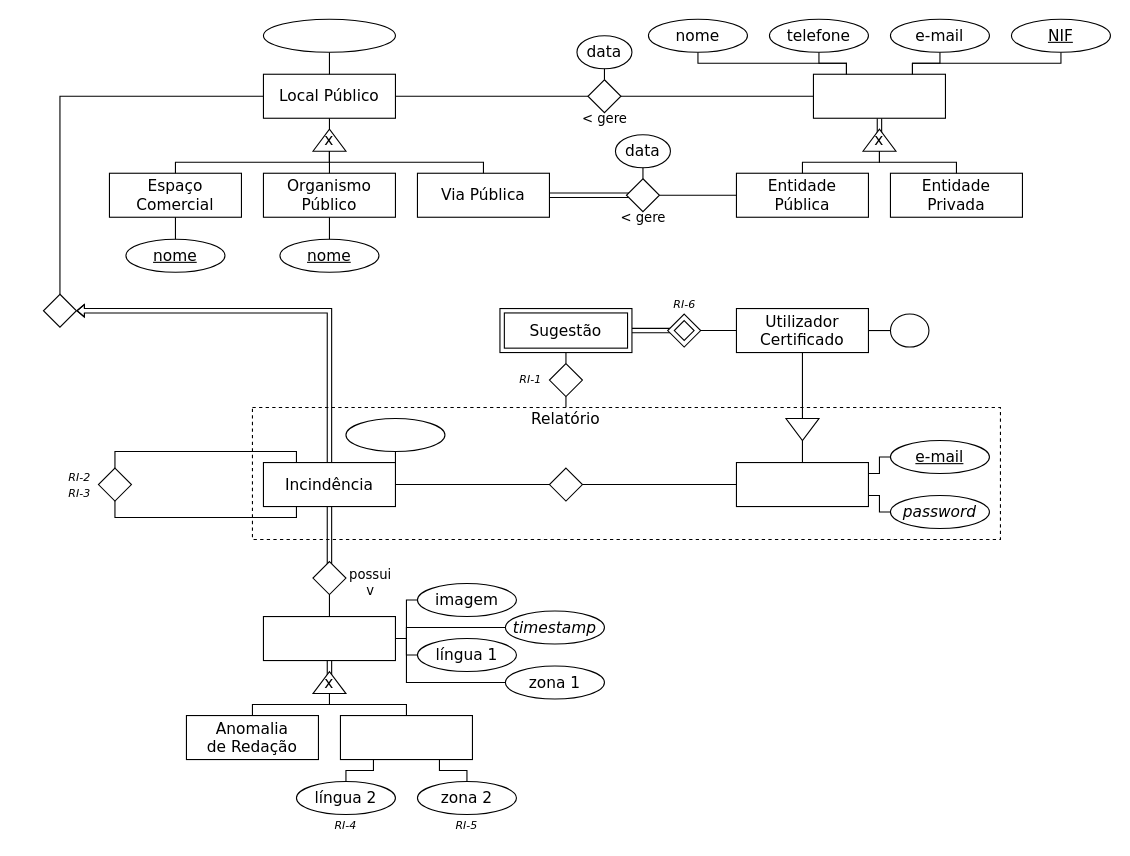
Some shapes in this 1130 by 856 pixel diagram are drawn without their labels. Each missing label, with the centre of its shape:
"< dá" goes at (x=684, y=330).
"< ocorre em" goes at (x=59, y=310).
"< reporta" goes at (x=565, y=484).
"Anomalia" goes at (x=328, y=638).
"Anomalia de Tradução" goes at (x=405, y=737).
"coordenadas" goes at (x=328, y=35).
"duplicada de" goes at (x=114, y=484).
"Entidade Responsável" goes at (x=878, y=95).
"ID" goes at (x=909, y=330).
"sugerida sobre v" goes at (x=565, y=379).
"texto" goes at (x=395, y=434).
"Utilizador" goes at (x=801, y=484).
